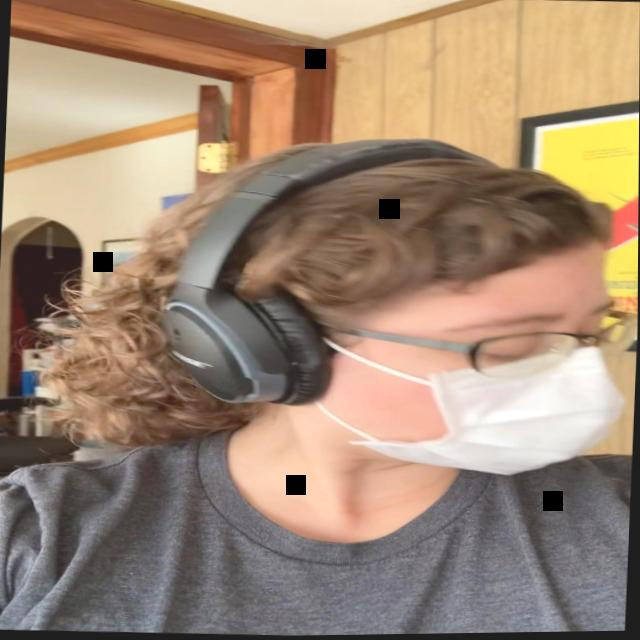Mask: (321, 237, 639, 483)
